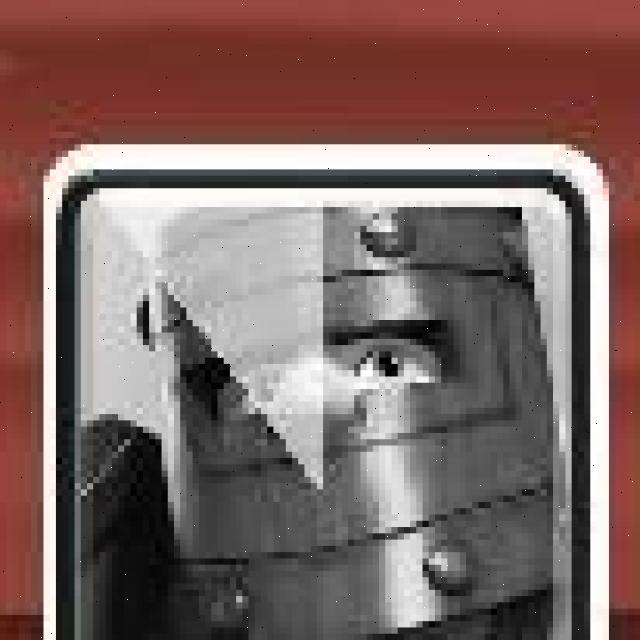Dark_Prince: (39, 139, 613, 640)
